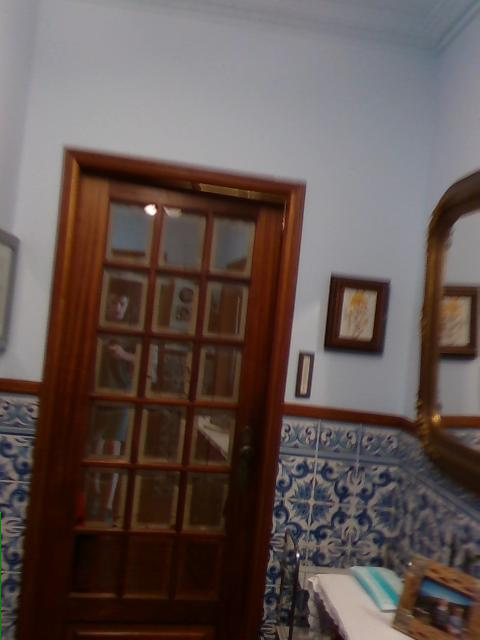door: (16, 148, 305, 639)
